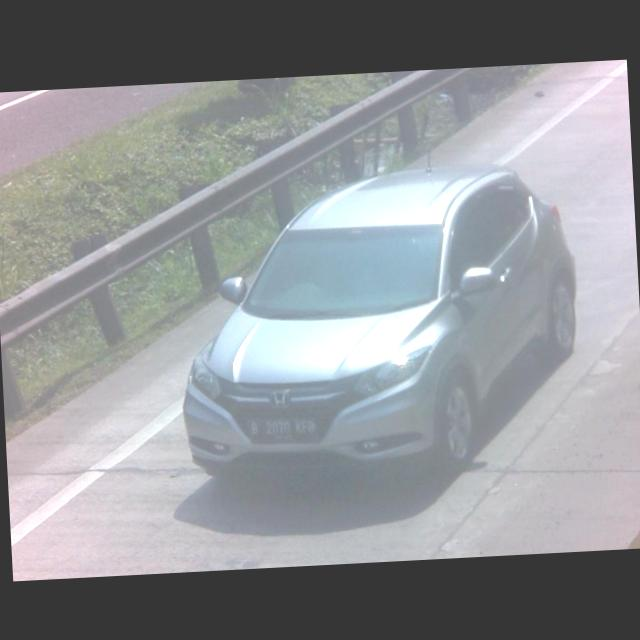plate: (245, 412, 320, 444)
